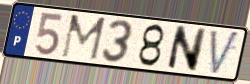3: (100, 19, 136, 65)
5: (33, 10, 67, 57)
8: (137, 23, 166, 68)
M: (59, 13, 108, 62)
N: (164, 24, 209, 73)
V: (208, 28, 242, 78)
